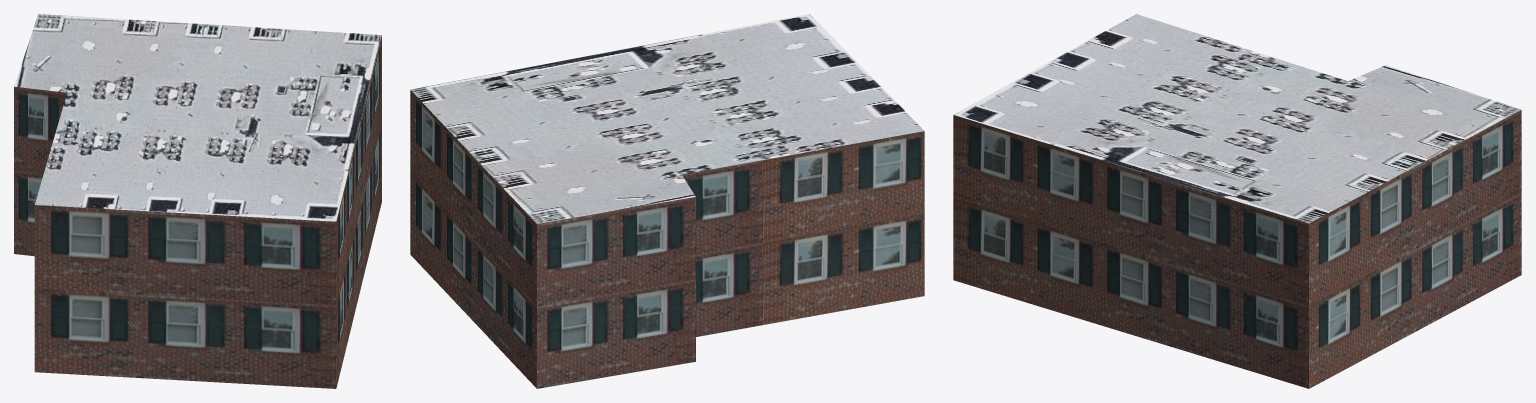
File: ResTex__3765.fbx
3 renders of one model, left to right at view 1: azimuth 30°, elevation 25°; view 2: azimuth 150°, elevation 25°; view 3: azimuth 270°, elevation 25°, orthographic.
Visible parts, largest first — view 1: CityEngineMaterial_14_m, CityEngineMaterial_8_m; view 2: CityEngineMaterial_14_m, CityEngineMaterial_8_m; view 3: CityEngineMaterial_14_m, CityEngineMaterial_8_m.
Boxes of the visible parts, x1,y1,x2,y2 form: CityEngineMaterial_14_m: (14, 35, 381, 388); CityEngineMaterial_8_m: (14, 14, 381, 221); CityEngineMaterial_14_m: (410, 90, 924, 388); CityEngineMaterial_8_m: (410, 14, 924, 223); CityEngineMaterial_14_m: (953, 110, 1521, 388); CityEngineMaterial_8_m: (953, 14, 1520, 223).
Size of the model in its own units: 16.31 by 6 by 18.69.
Materials: 2 (2 with a texture image).
